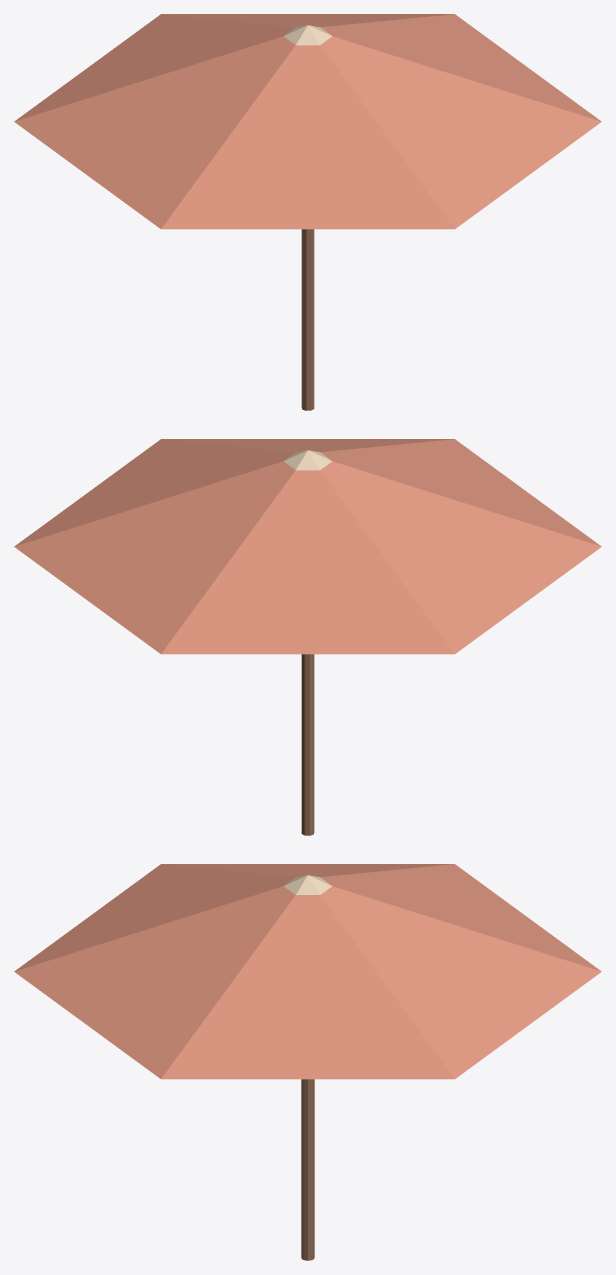
File: umbrella.obj
The picture shows the model from 3 angles, top to bottom: view 1: azimuth 30°, elevation 25°; view 2: azimuth 150°, elevation 25°; view 3: azimuth 270°, elevation 25°; orthographic projection.
Parts seen in each view (by area): view 1: umbrella; view 2: umbrella; view 3: umbrella.
Boxes of the visible parts, x1,y1,x2,y2 form: umbrella: [14, 14, 601, 410]; umbrella: [14, 439, 601, 835]; umbrella: [14, 864, 601, 1260].
Size of the model in its own units: 3.46 by 2.88 by 4.
